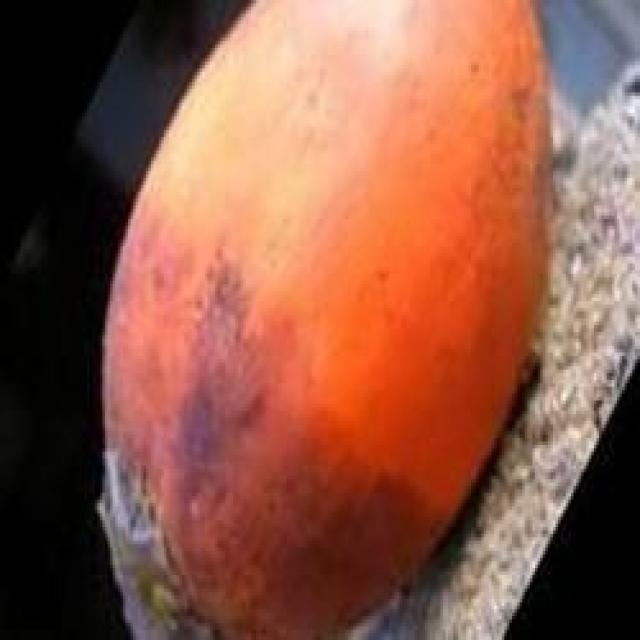good: (95, 0, 556, 637)
